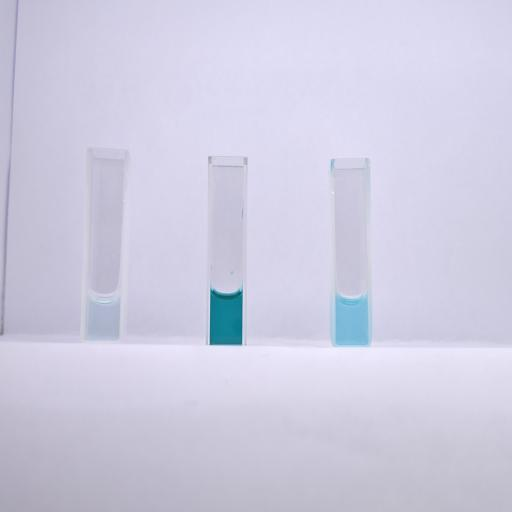cuvette: (79, 144, 131, 345), (203, 155, 250, 346), (329, 156, 374, 349)
liquid: (210, 290, 242, 343), (86, 291, 120, 340), (336, 295, 368, 343)
